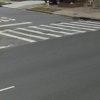Crosswalk: (2, 13, 99, 42)
